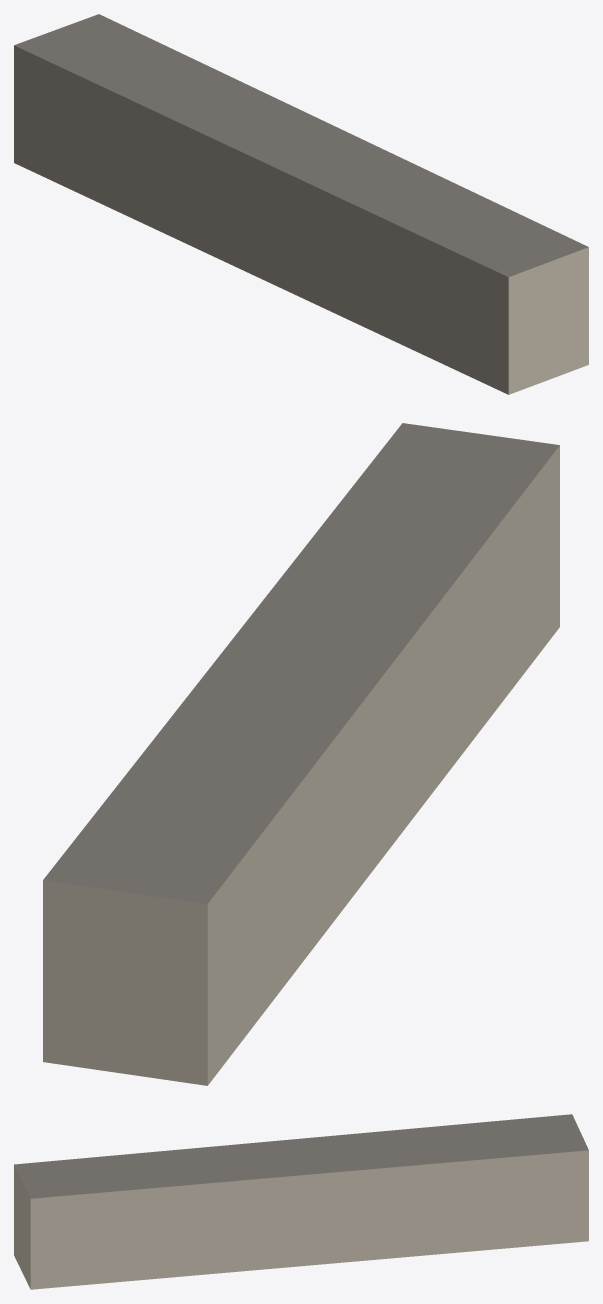
The picture shows the model from 3 angles, top to bottom: view 1: azimuth 30°, elevation 25°; view 2: azimuth 150°, elevation 25°; view 3: azimuth 270°, elevation 25°; orthographic projection. The views are drawn at different scales.
Visible parts, largest first — view 1: HP-w325227695; view 2: HP-w325227695; view 3: HP-w325227695.
Boxes of the visible parts, bbox=[...] form: HP-w325227695: bbox=[14, 14, 588, 394]; HP-w325227695: bbox=[43, 423, 559, 1085]; HP-w325227695: bbox=[14, 1114, 588, 1289].
Bounding box in the file's own units: 23.95 × 12 × 68.76.
